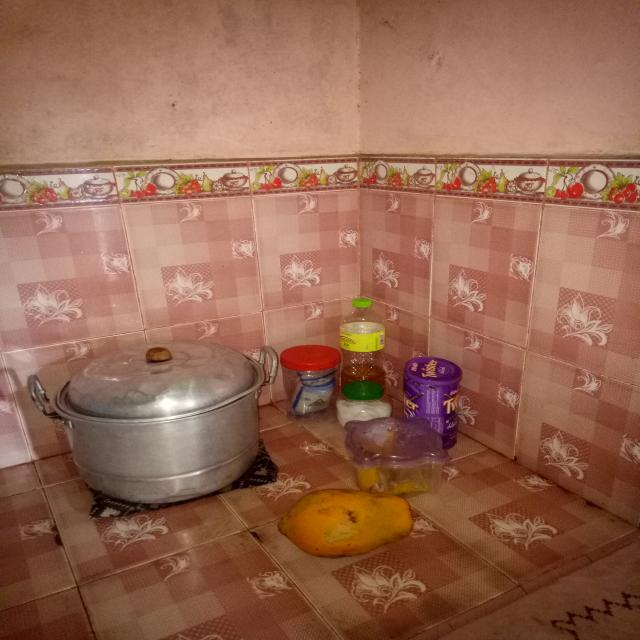Pepaya rippen: (282, 490, 413, 557)
